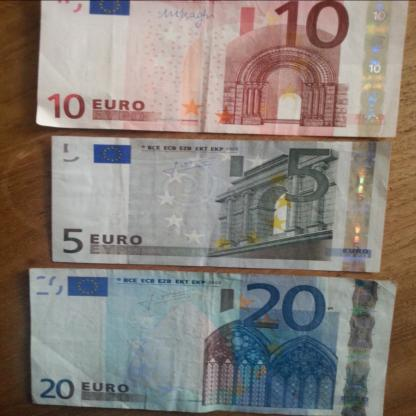euro_banknote: (29, 269, 398, 416), (38, 7, 408, 133), (50, 137, 391, 269)
